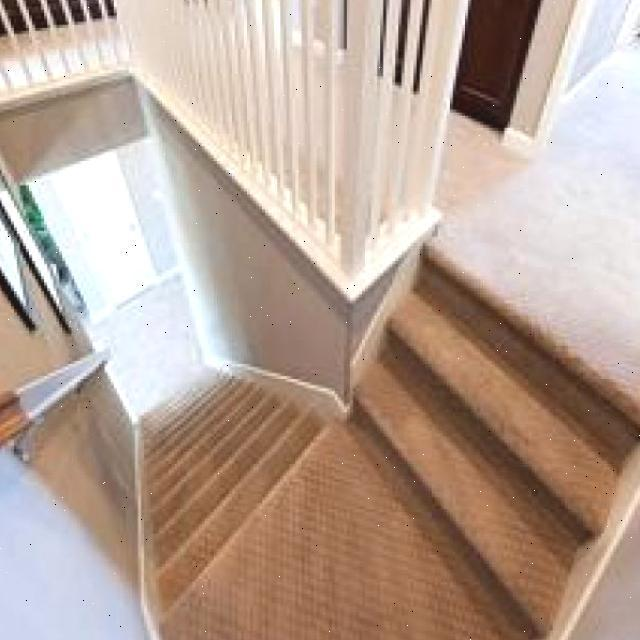stair: (129, 367, 338, 585)
